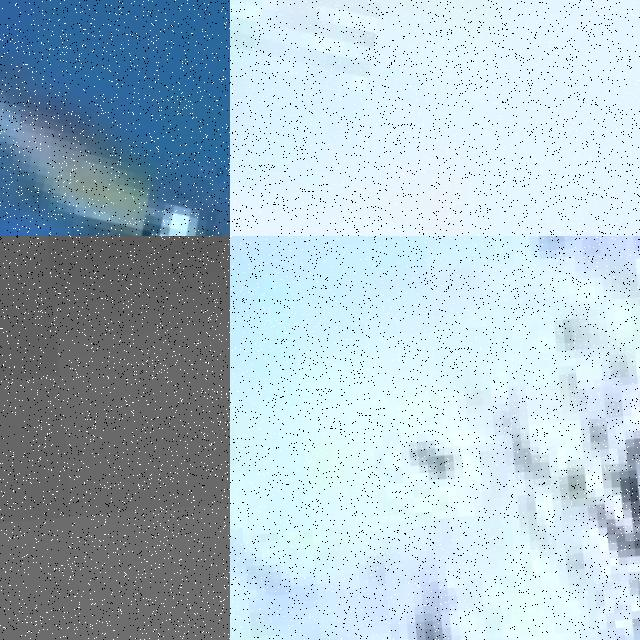0: (0, 0, 230, 236)
drone: (230, 0, 640, 236)
